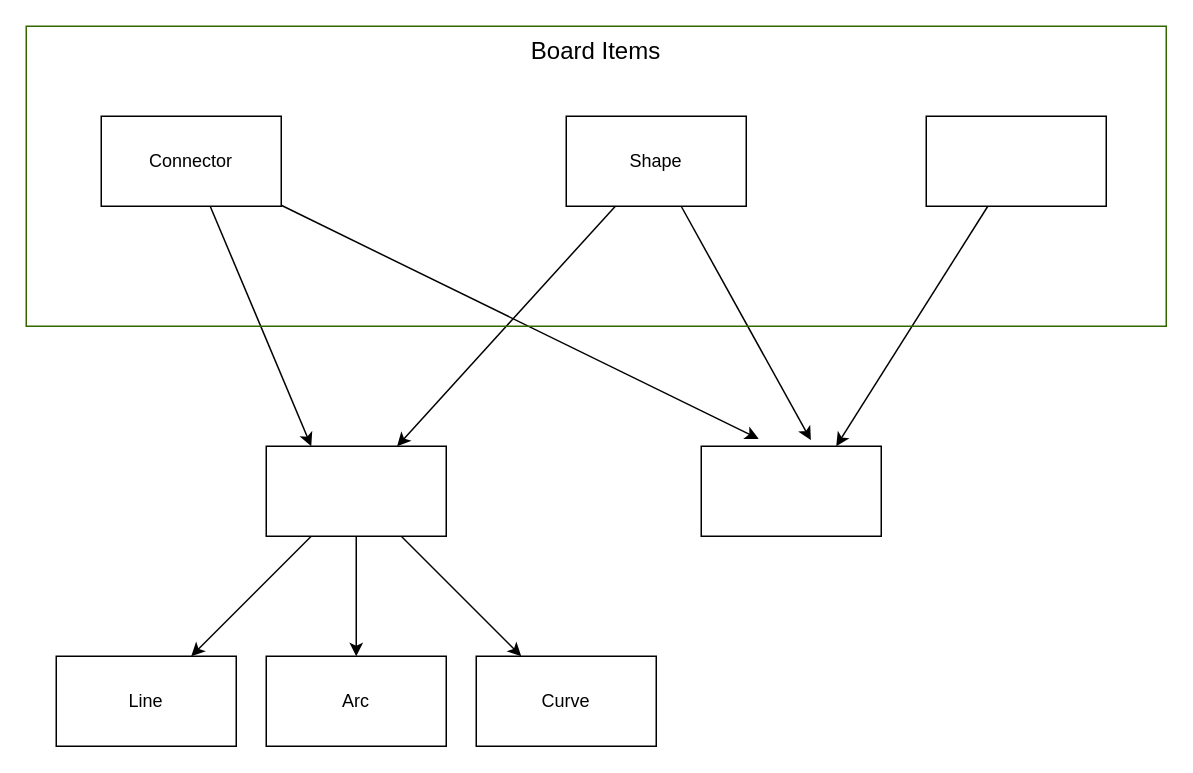
Image size: 1193x773. Some labels were removed from this diagram. The shapes that lost their labels are listed below. From the top down, each one's centre as x and y in pixels, then its label:
At (1015,160): "Text".
At (355,490): "Path".
At (790,490): "Document".
